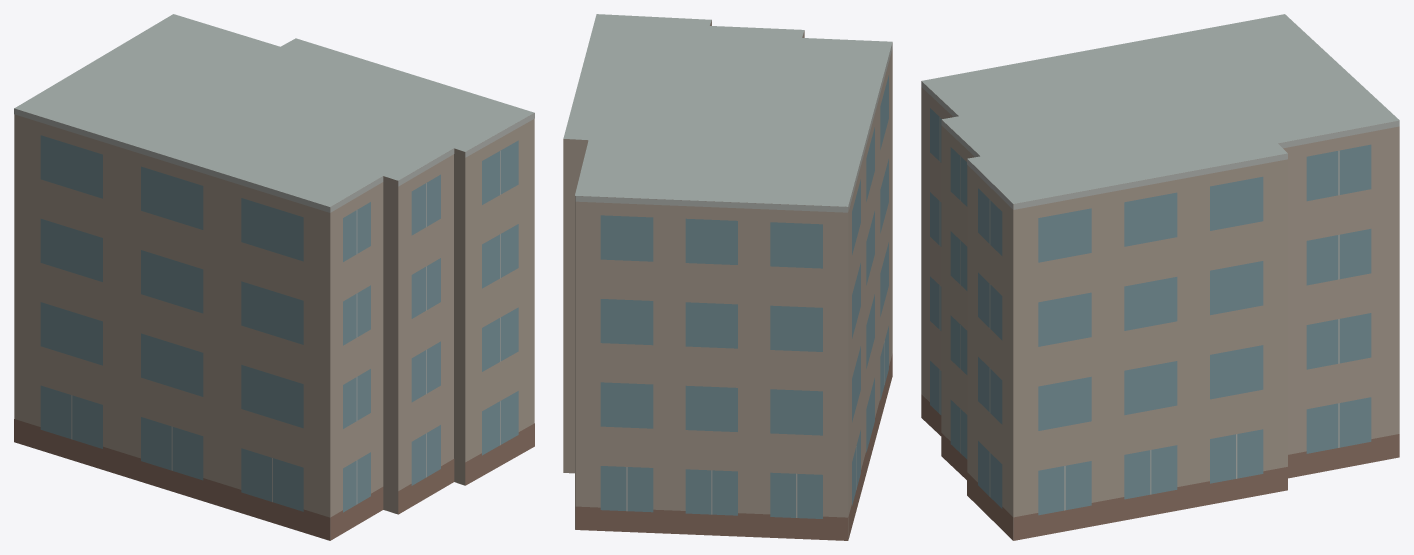
File: survey-upis-32628444.glb
3 renders of one model, left to right at view 1: azimuth 30°, elevation 25°; view 2: azimuth 150°, elevation 25°; view 3: azimuth 270°, elevation 25°, orthographic.
Parts seen in each view (by area): view 1: survey-upis-32628444.tmp; view 2: survey-upis-32628444.tmp; view 3: survey-upis-32628444.tmp.
Boxes of the visible parts, x1=… form: survey-upis-32628444.tmp: x1=14, y1=14, x2=534, y2=540; survey-upis-32628444.tmp: x1=563, y1=14, x2=892, y2=540; survey-upis-32628444.tmp: x1=921, y1=14, x2=1399, y2=540.
Size of the model in its own units: 16.88 by 13.94 by 17.95.
